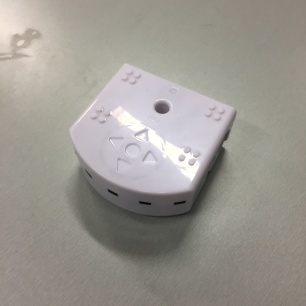thymio: (63, 59, 238, 221)
